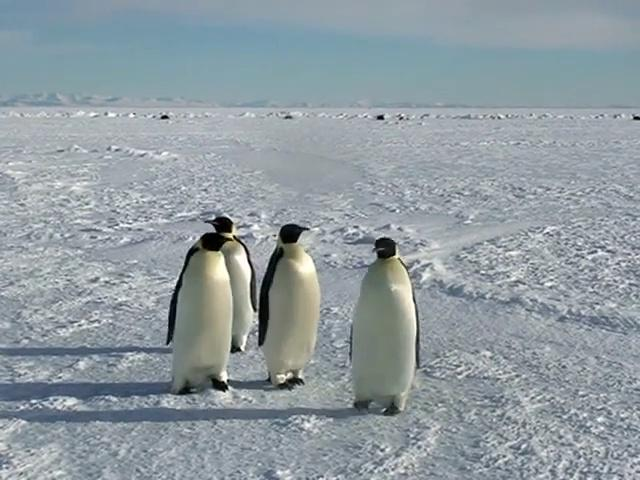animal: (350, 237, 419, 414)
